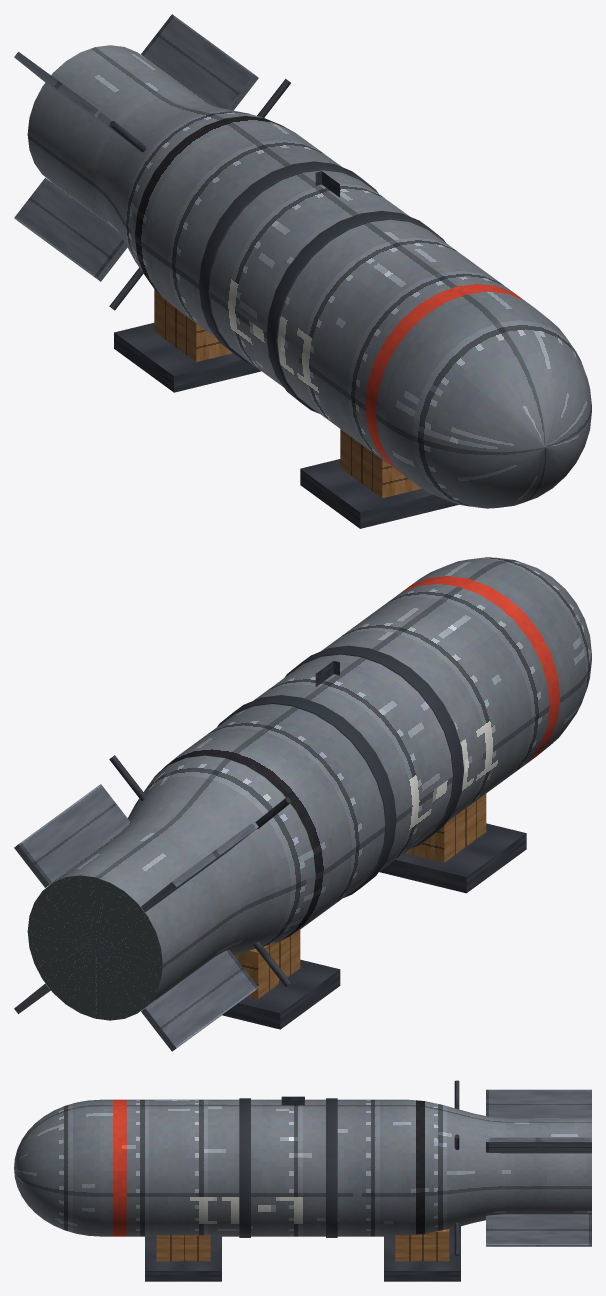
File: little_boy.glb
3 renders of one model, top to bottom at view 1: azimuth 30°, elevation 25°; view 2: azimuth 150°, elevation 25°; view 3: azimuth 270°, elevation 25°, orthographic. The views are drawn at different scales.
Visible parts, largest first — view 1: hull, cradle, fins, details; view 2: hull, cradle, fins, details; view 3: hull, fins, cradle, details.
Boxes of the visible parts, x1,y1,x2,y2 form: hull: [27, 45, 591, 508]; cradle: [114, 289, 458, 528]; fins: [14, 14, 258, 281]; details: [109, 79, 339, 310]; hull: [27, 557, 591, 1020]; cradle: [222, 794, 526, 1029]; fins: [14, 784, 258, 1051]; details: [109, 661, 339, 986]; hull: [14, 1098, 591, 1237]; fins: [486, 1089, 591, 1246]; cradle: [145, 1226, 460, 1281]; details: [281, 1080, 459, 1255].
Size of the model in its own units: 0.726 by 0.903 by 3.
Materials: 1 (1 with a texture image).
